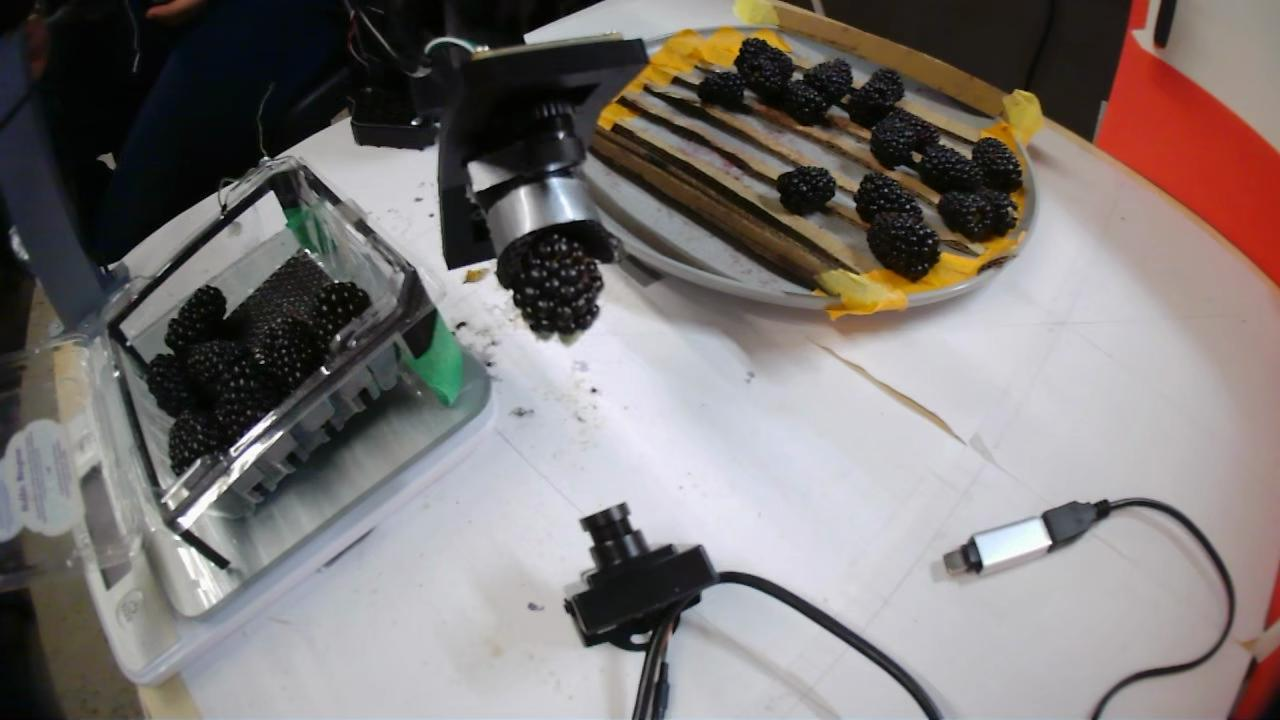berry: (512, 232, 603, 340), (214, 347, 282, 446), (254, 318, 327, 389), (866, 212, 938, 280), (165, 285, 226, 355), (185, 339, 244, 402), (853, 172, 922, 223), (146, 354, 202, 416), (169, 411, 222, 476), (912, 143, 980, 190), (313, 282, 370, 337), (776, 166, 835, 215), (843, 77, 898, 128), (937, 191, 993, 241), (736, 55, 792, 105), (972, 137, 1020, 192), (870, 113, 917, 169), (735, 38, 795, 74), (803, 59, 852, 103), (783, 79, 829, 125), (695, 71, 744, 111), (897, 111, 939, 153), (984, 191, 1015, 237), (867, 67, 902, 102)
